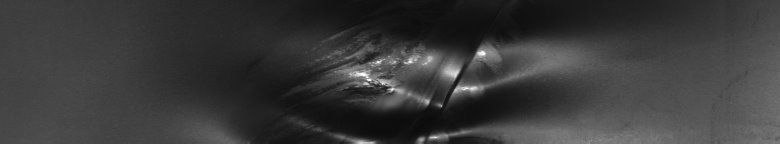ke: (217, 24, 632, 136)
